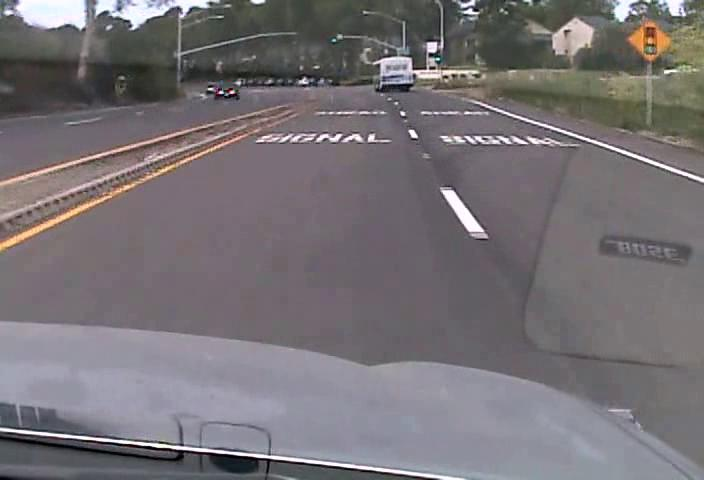signalAhead: (626, 19, 672, 61)
